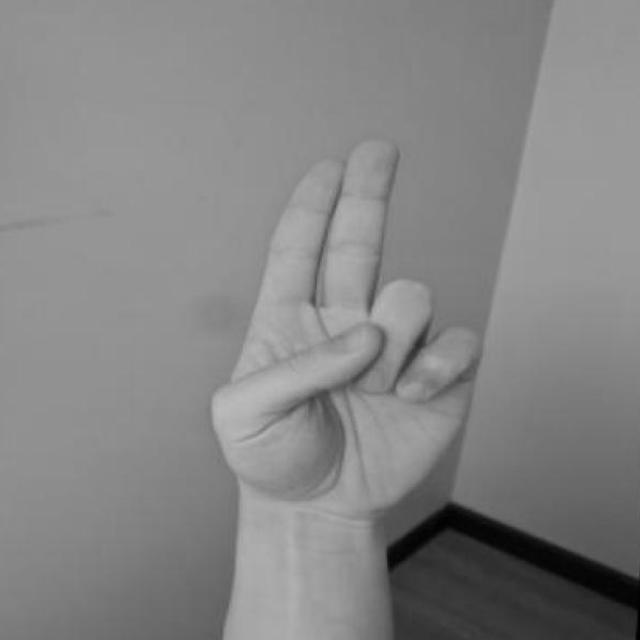U: (200, 124, 500, 640)
